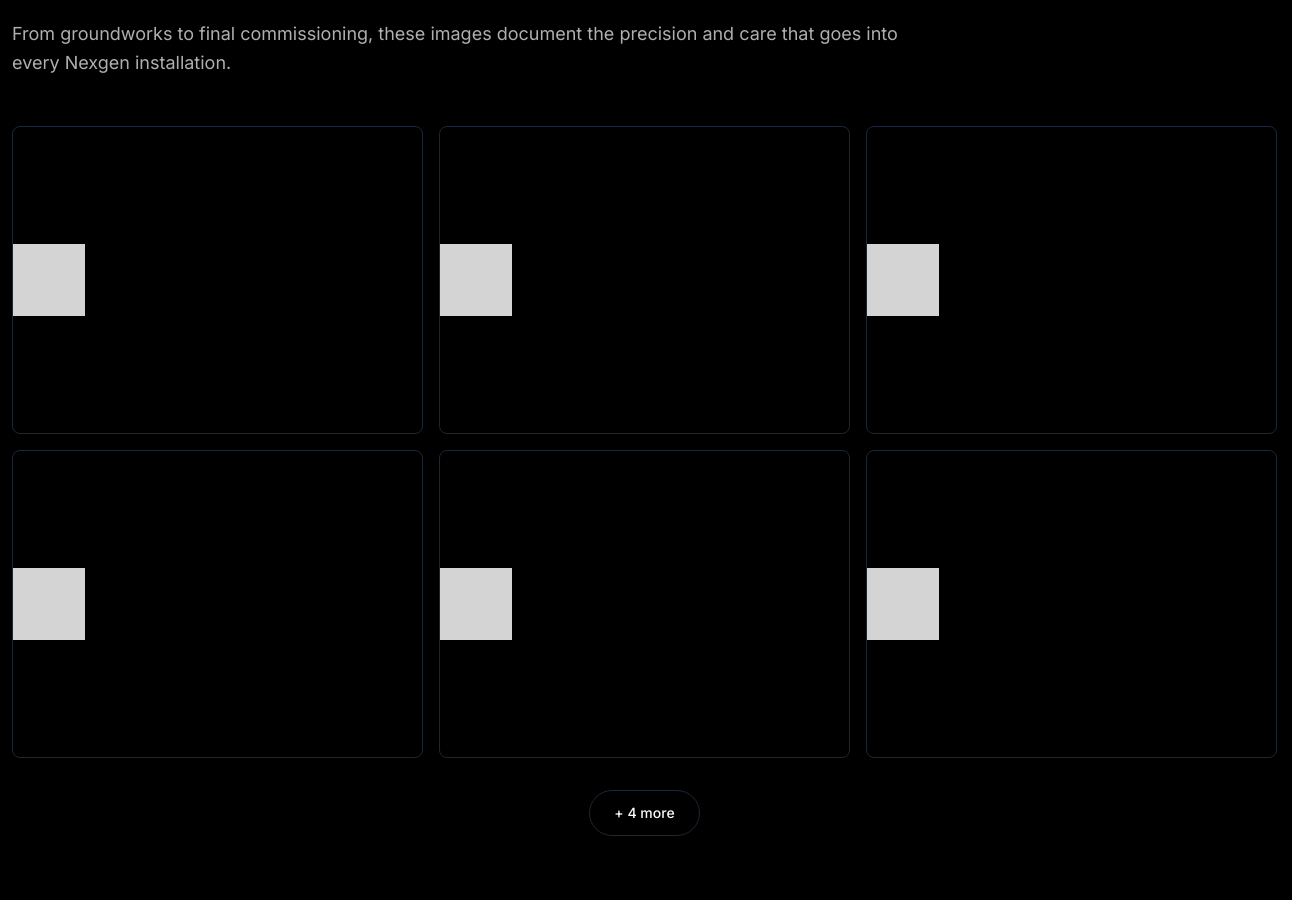
ProjectGallery › shows all 10 images in grid after clicking load-more
(page scrolled)
Click the button with aria-label "Load 4 more images": click(645, 813) [589,790,700,836]
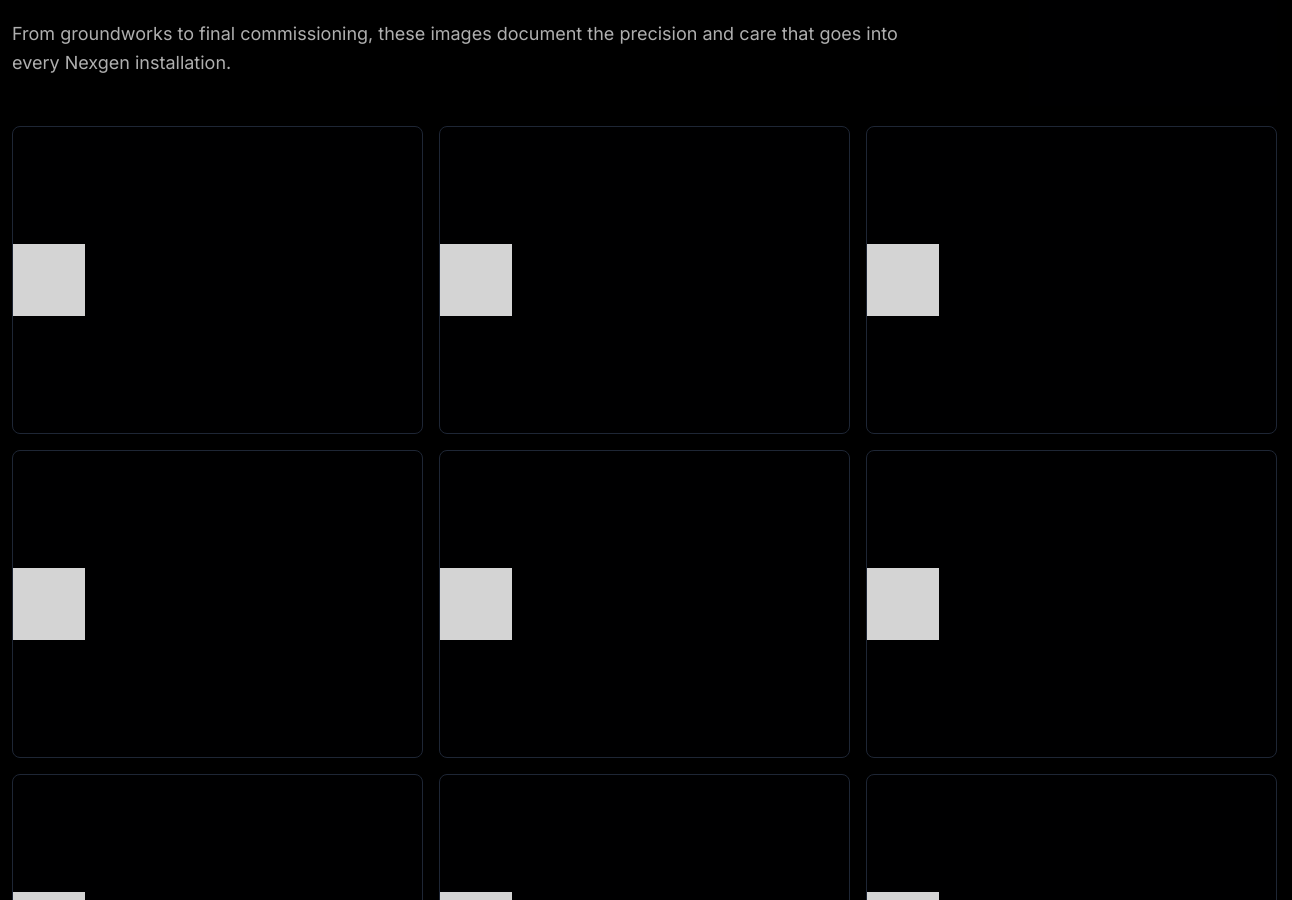
expect the number of buttons "Caption 0" is 10: met
